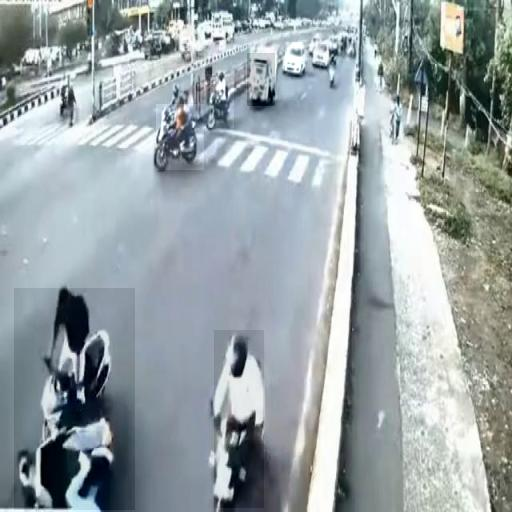小汽车: (247, 53, 275, 106), (285, 42, 302, 75)
自行车: (214, 330, 264, 508), (156, 104, 204, 170), (204, 74, 234, 128)
自行车撞自行车: (14, 288, 135, 510)
